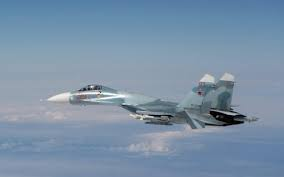fighter: (46, 70, 260, 130)
